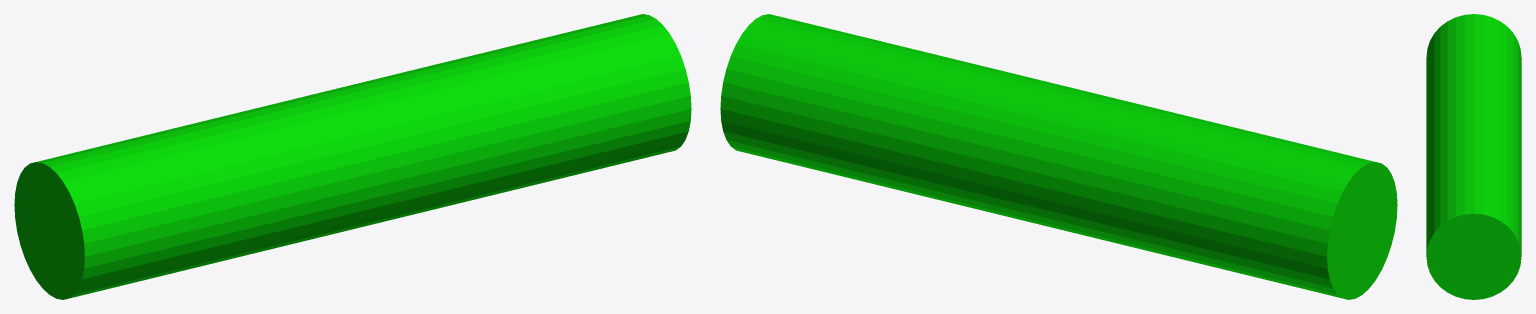
Rendered from hammer_handle_colored.obj.
3 views of the same model, side by side, from view 1: azimuth 30°, elevation 25°; view 2: azimuth 150°, elevation 25°; view 3: azimuth 270°, elevation 25° (orthographic). The views are drawn at different scales.
Bounding box in the file's own units: 0.1724 × 0.0347 × 0.0347.
